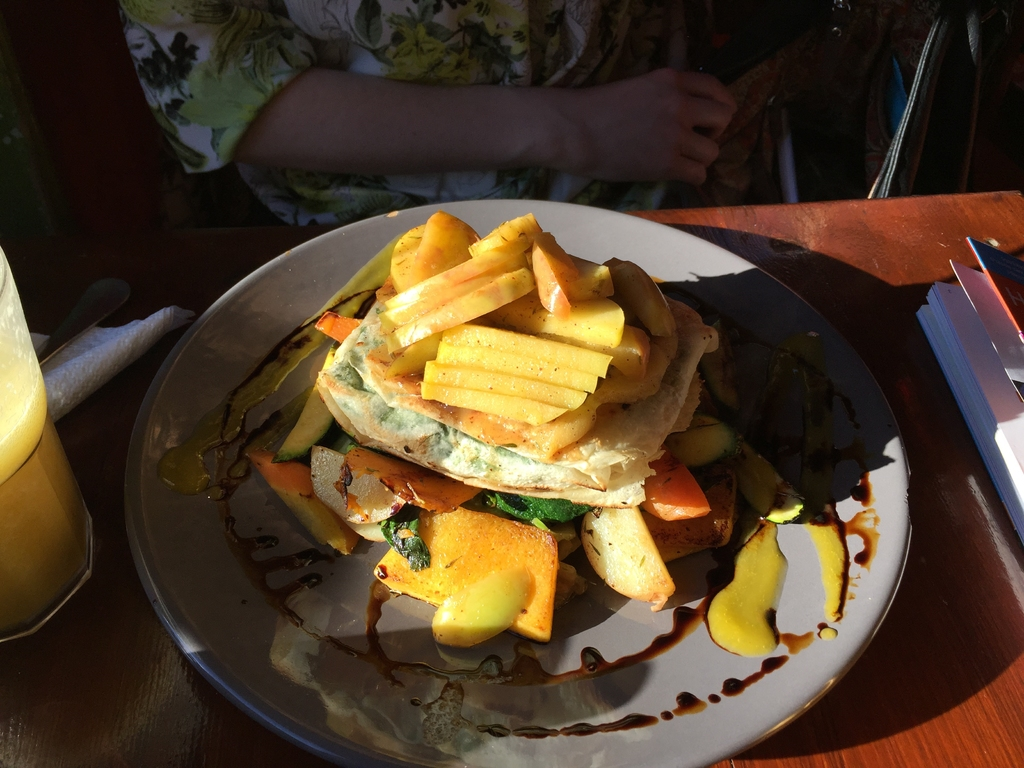French fries: (316, 227, 706, 532)
